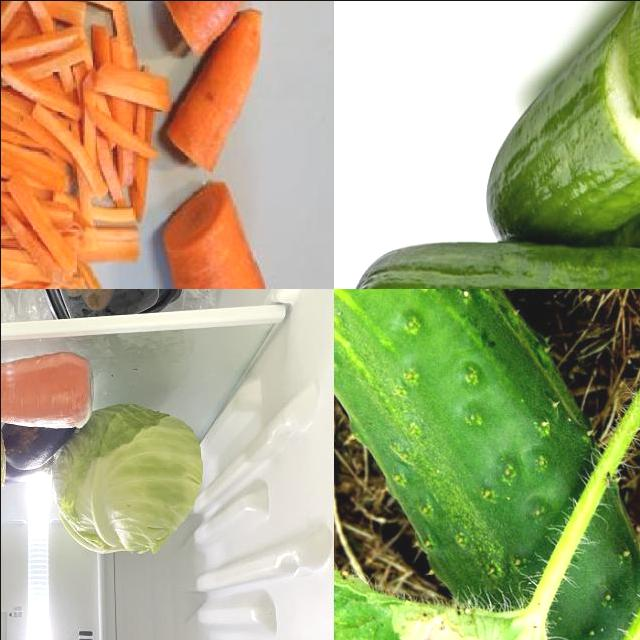cabbage: (53, 401, 200, 548)
carrot: (162, 13, 267, 169), (158, 178, 276, 289), (160, 1, 307, 59), (1, 354, 94, 433)
cucumber: (334, 289, 640, 640), (487, 1, 640, 245)
eggplant: (3, 420, 77, 473), (2, 450, 59, 486)
